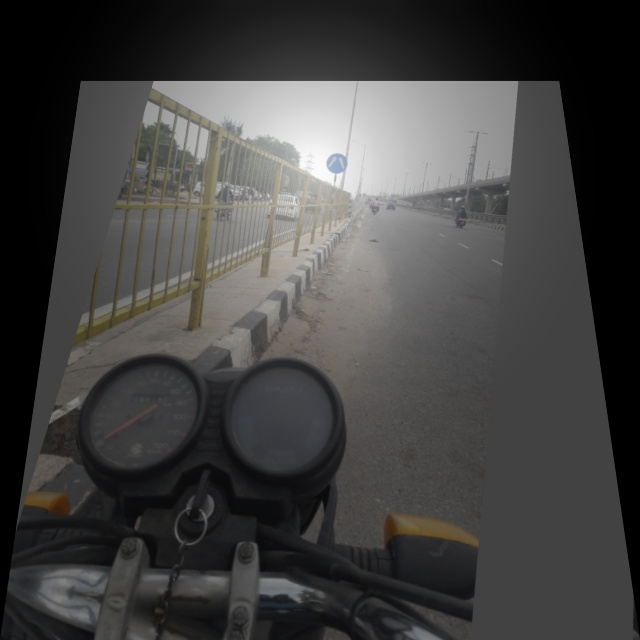Pass_Either_Side: (323, 147, 352, 179)
